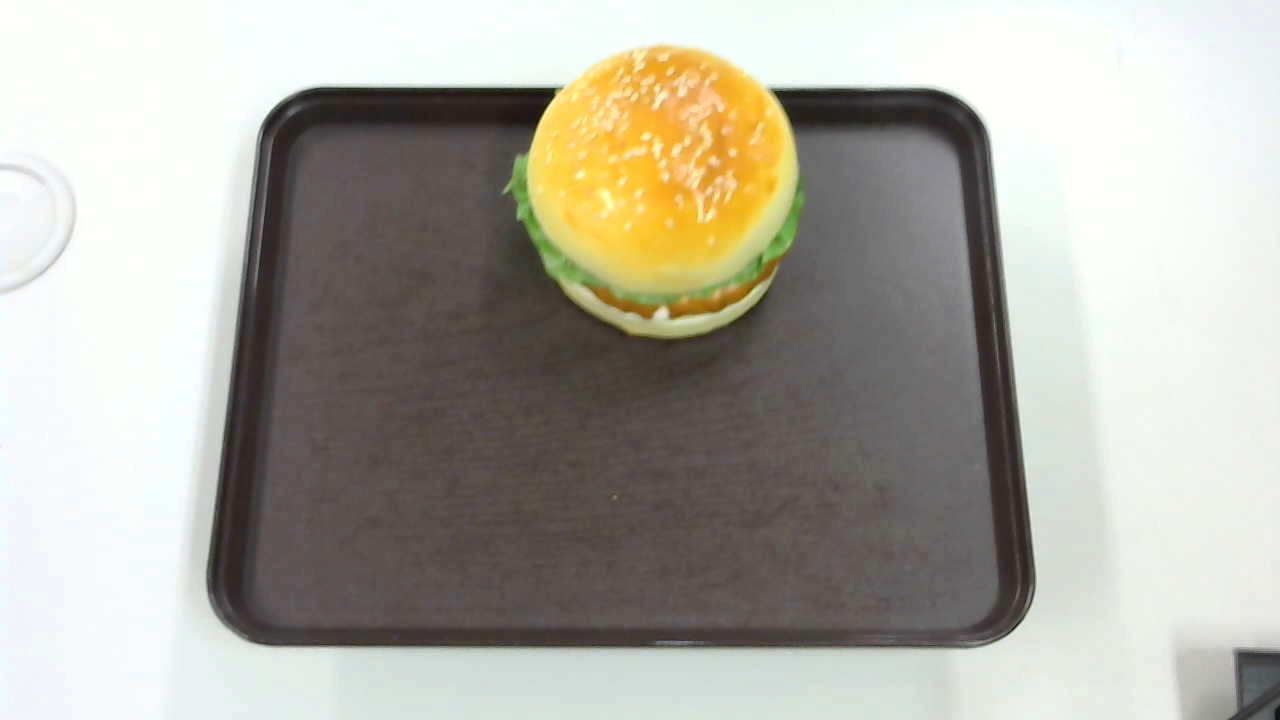hamburger: (502, 45, 806, 338)
